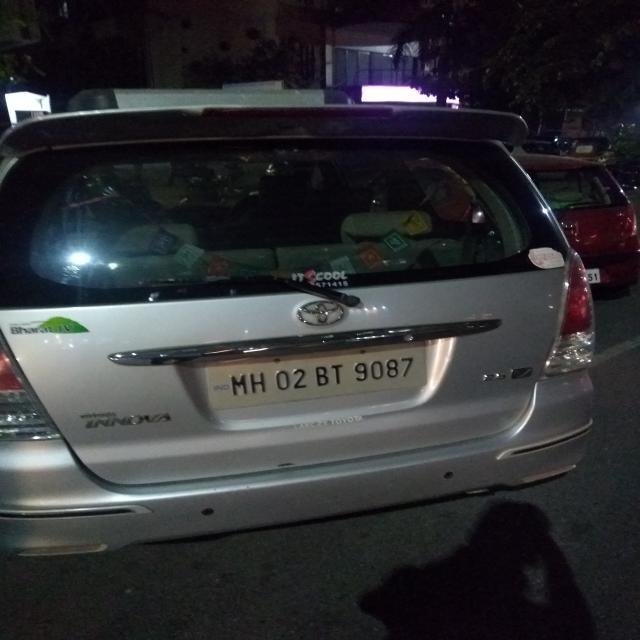Number-Plate: (218, 351, 420, 401)
